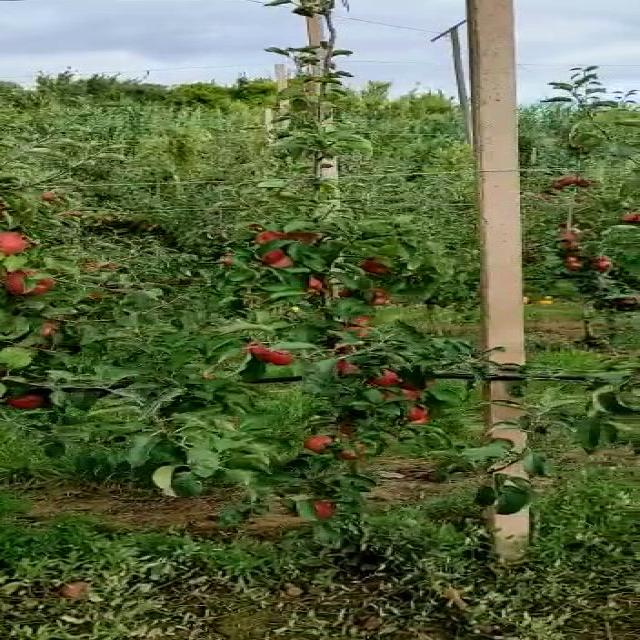100-_ripeness: (2, 272, 53, 298), (1, 390, 44, 411), (256, 345, 300, 365), (371, 370, 418, 387), (2, 231, 31, 258), (307, 436, 340, 455), (264, 252, 302, 268), (249, 230, 284, 247), (365, 288, 393, 303), (366, 257, 388, 273)
